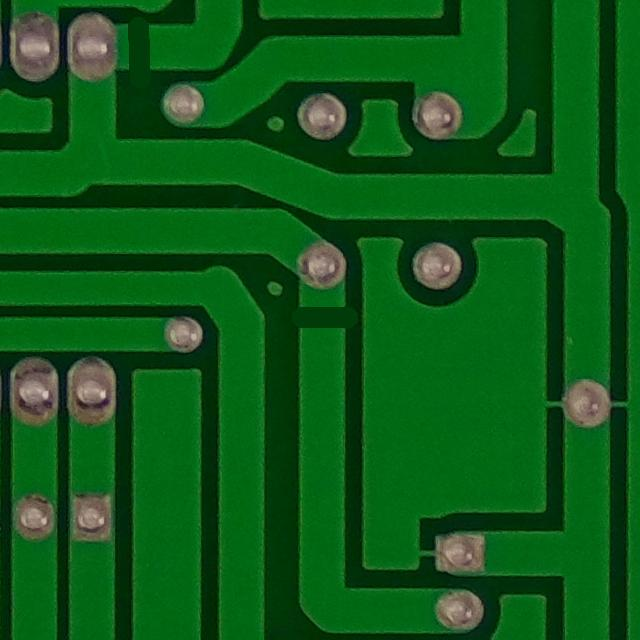open_circuit: (282, 290, 359, 350)
